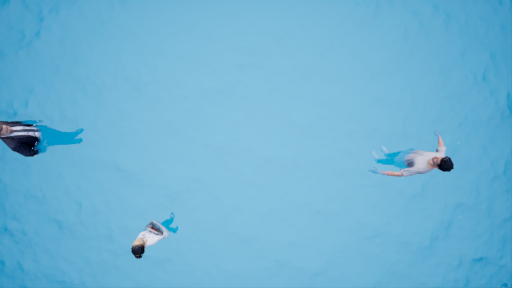person: (371, 130, 455, 177), (1, 113, 86, 159), (125, 215, 184, 256)
